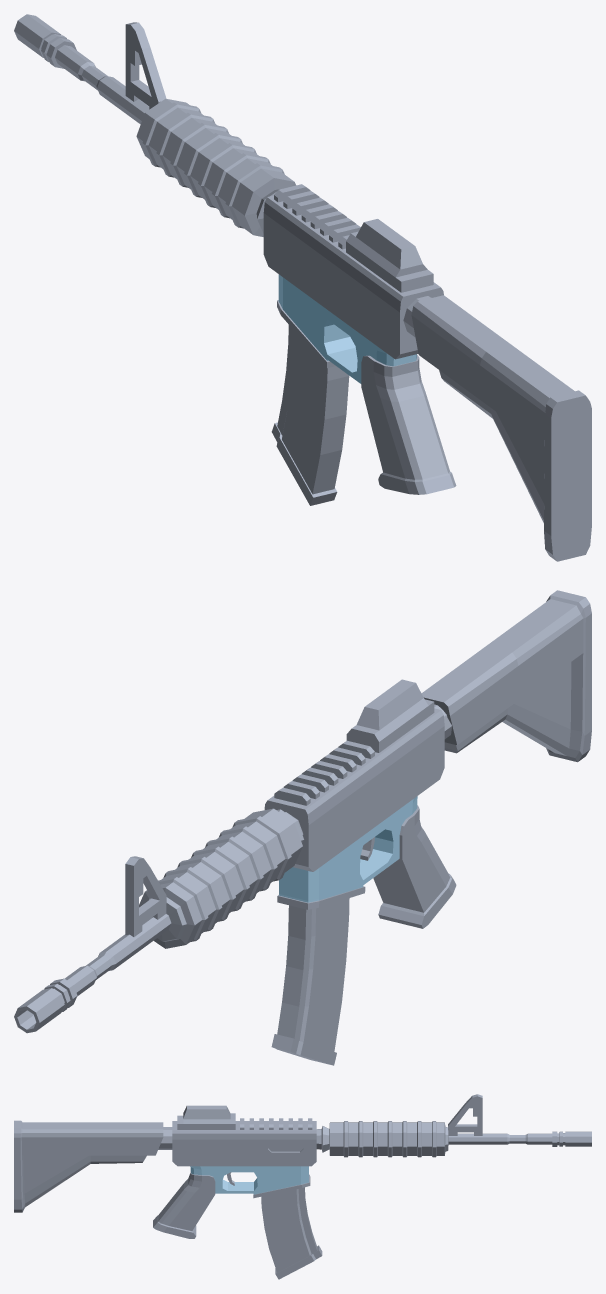
The model's file is diamond.glb.
The picture shows the model from 3 angles, top to bottom: view 1: azimuth 30°, elevation 25°; view 2: azimuth 150°, elevation 25°; view 3: azimuth 270°, elevation 25°; orthographic projection. The views are drawn at different scales.
Visible parts, largest first — view 1: RIVALS-rifle; view 2: RIVALS-rifle; view 3: RIVALS-rifle.
Boxes of the visible parts, x1,y1,x2,y2 form: RIVALS-rifle: (14, 14, 591, 561); RIVALS-rifle: (14, 590, 591, 1065); RIVALS-rifle: (14, 1094, 591, 1279).
Size of the model in its own units: 0.1776 by 0.918 by 2.65.
